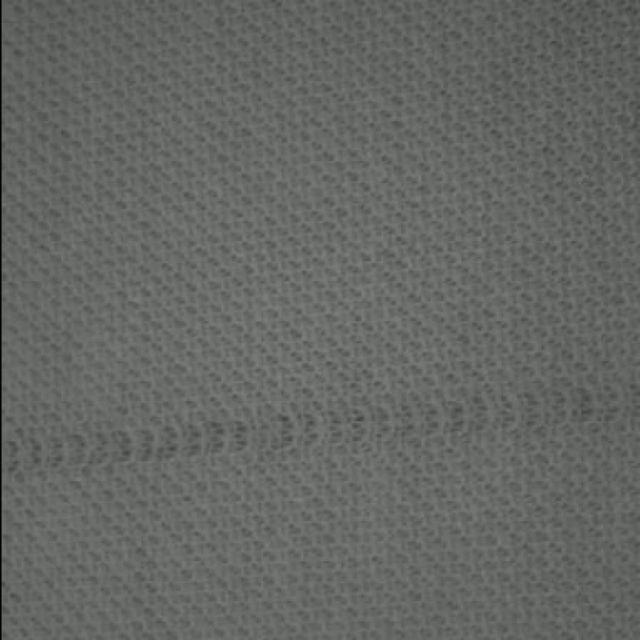Line: (9, 386, 634, 481)
